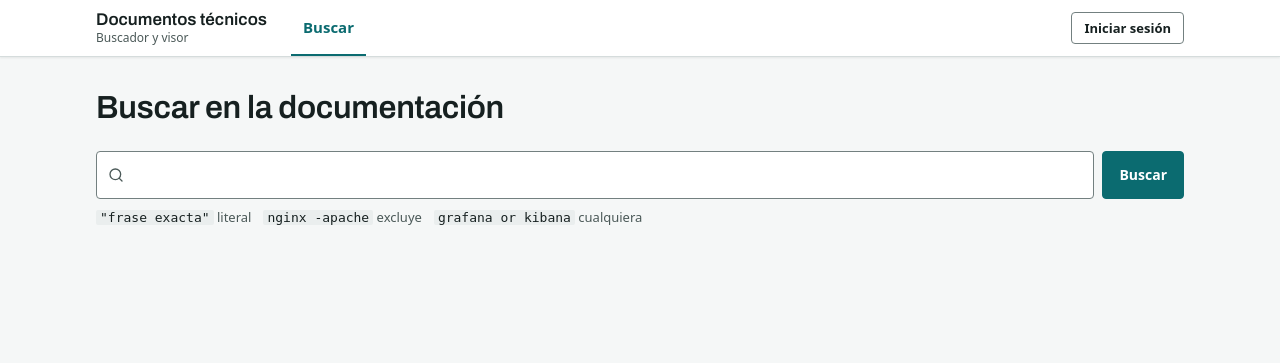
Buscar › envía la consulta del formulario y la refleja en la búsqueda
Step 1. Type "\"pg_dump y restauración\"" into the search field named "Buscar en los documentos" → (595, 175), box [96, 151, 1094, 199]
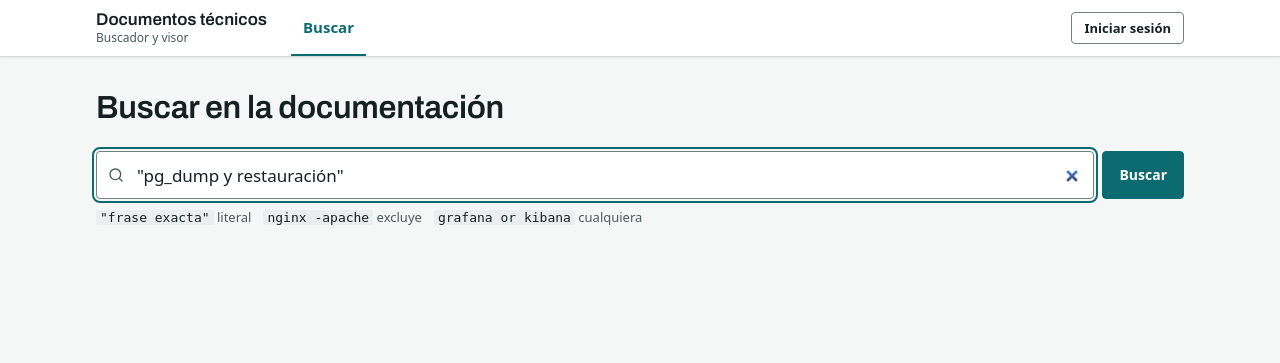
Step 2. Click the button "Buscar" → (1143, 175), box [1102, 151, 1184, 199]
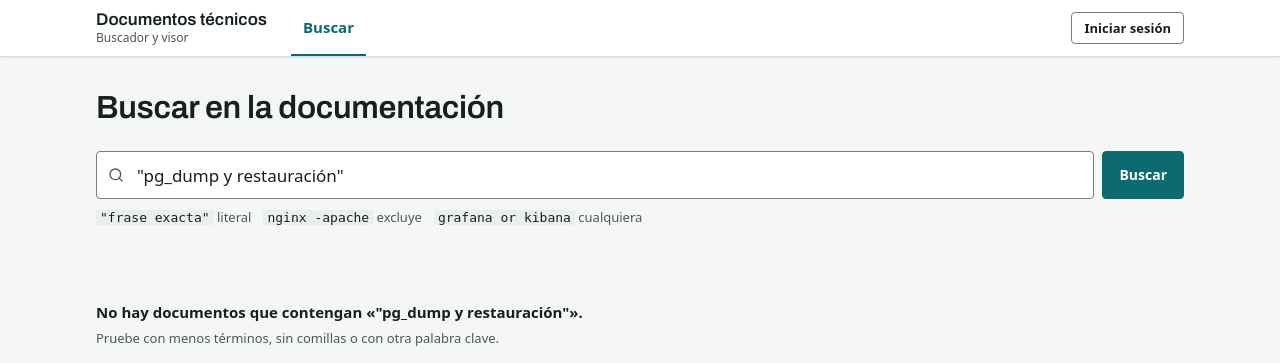
Expected: the text "No hay documentos que contengan «\"pg_dump y restauración\"»." is shown, [96, 302, 583, 322]
